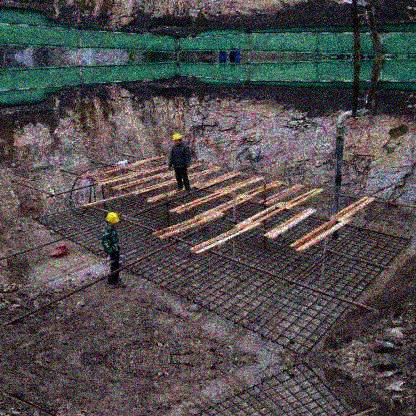helmet: (107, 213, 120, 229), (171, 133, 183, 147)
